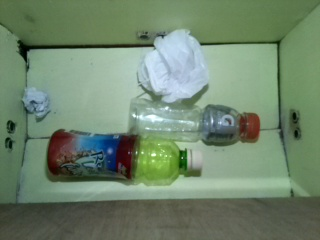bottle: (46, 127, 203, 184), (129, 97, 261, 145)
paper: (21, 86, 52, 122)
plastic-bag: (136, 28, 212, 102)
